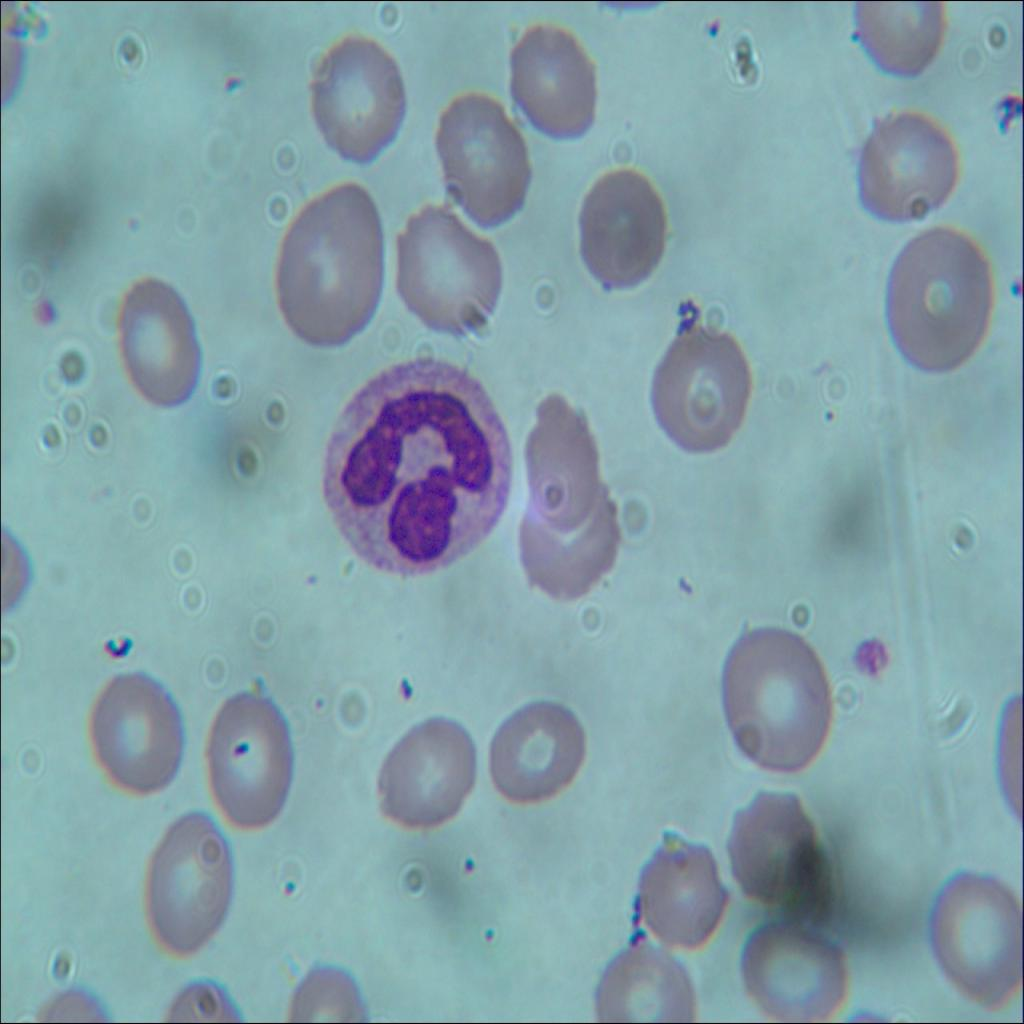Eritrosit: (270, 174, 386, 349), (878, 228, 993, 384), (722, 628, 832, 781), (389, 200, 504, 342), (514, 486, 636, 612), (636, 324, 753, 454), (919, 862, 1023, 1008), (199, 681, 298, 834), (566, 159, 671, 302), (83, 662, 188, 804), (368, 698, 474, 835), (298, 31, 404, 167), (113, 268, 211, 412), (142, 808, 238, 954), (430, 84, 529, 225), (499, 18, 602, 148), (858, 105, 958, 224), (738, 918, 851, 1023), (721, 779, 816, 898), (518, 388, 594, 532), (488, 705, 586, 812), (636, 831, 723, 948), (589, 931, 698, 1023)
Neutrofil: (318, 355, 513, 578)
Platelet: (850, 635, 894, 688), (474, 909, 511, 965), (26, 286, 63, 331), (273, 862, 301, 905), (818, 392, 848, 429), (120, 206, 146, 242), (218, 65, 244, 99), (698, 4, 721, 42), (844, 15, 866, 54), (393, 664, 416, 701), (599, 269, 618, 307), (304, 688, 324, 722), (230, 728, 252, 758), (456, 851, 478, 873)
